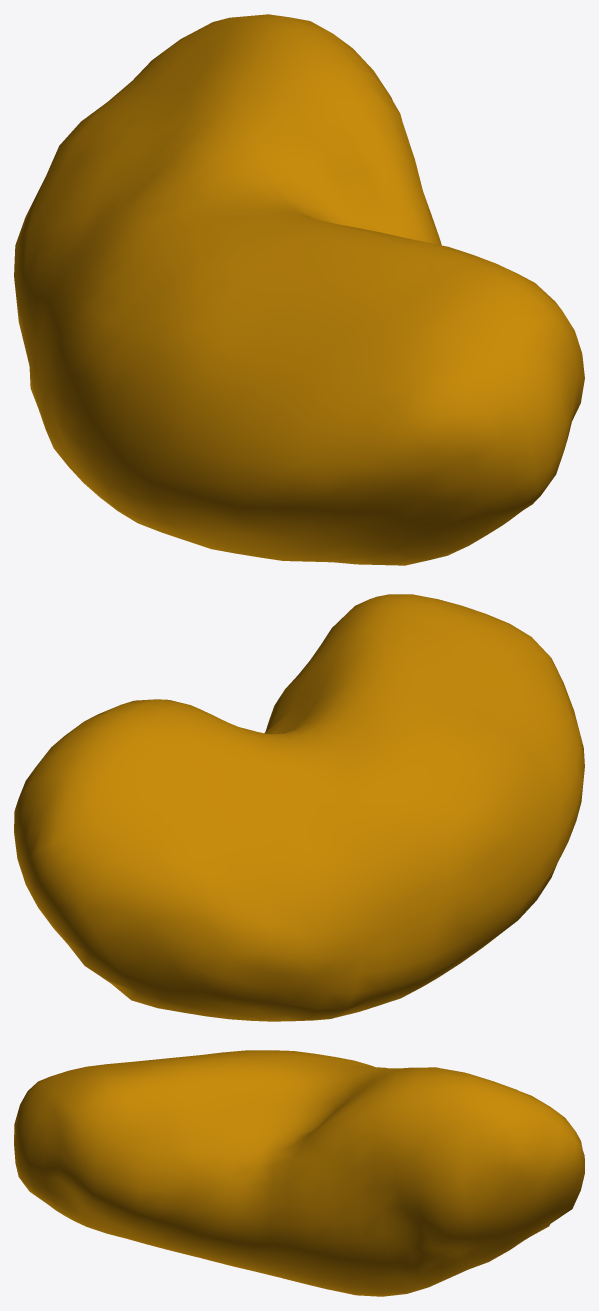
File: Kidney_Cortex_Right.FBX
3 views of the same model, one above another, from view 1: azimuth 30°, elevation 25°; view 2: azimuth 150°, elevation 25°; view 3: azimuth 270°, elevation 25° (orthographic). The views are drawn at different scales.
Parts seen in each view (by area): view 1: Kidney_Cortex_Right; view 2: Kidney_Cortex_Right; view 3: Kidney_Cortex_Right.
Boxes of the visible parts, left/top/right/bottom form: Kidney_Cortex_Right: left=14, top=14, right=584, bottom=565; Kidney_Cortex_Right: left=14, top=594, right=584, bottom=1021; Kidney_Cortex_Right: left=14, top=1050, right=584, bottom=1296.
Size of the model in its own units: 58.67 by 47.39 by 102.
